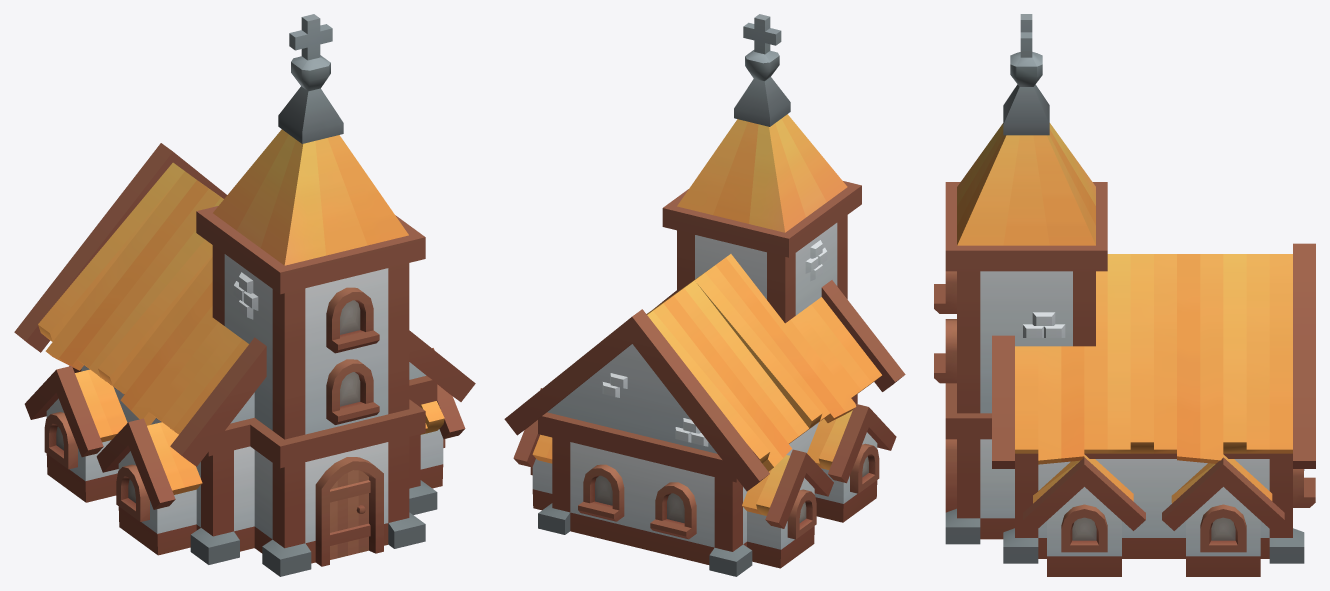
File: kay-igreja-amarela.gltf
3 renders of one model, left to right at view 1: azimuth 30°, elevation 25°; view 2: azimuth 150°, elevation 25°; view 3: azimuth 270°, elevation 25°, orthographic. The views are drawn at different scales.
Visible parts, largest first — view 1: building_church_yellow; view 2: building_church_yellow; view 3: building_church_yellow.
Part boxes in pixels (x1,y1,x2,y2): building_church_yellow: [14, 14, 475, 576]; building_church_yellow: [504, 14, 905, 576]; building_church_yellow: [934, 14, 1315, 576].
Bounding box in the file's own units: 5.15 × 8.23 × 5.77.
1 material, 1 textured.
